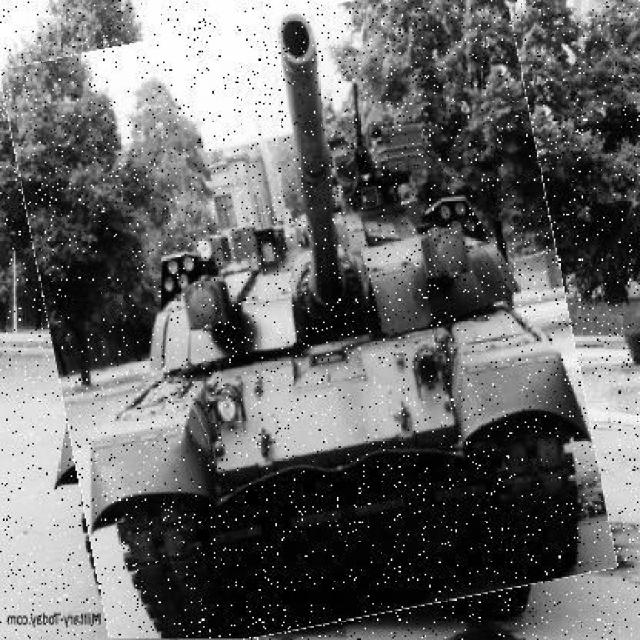Tank: (25, 1, 593, 639)
